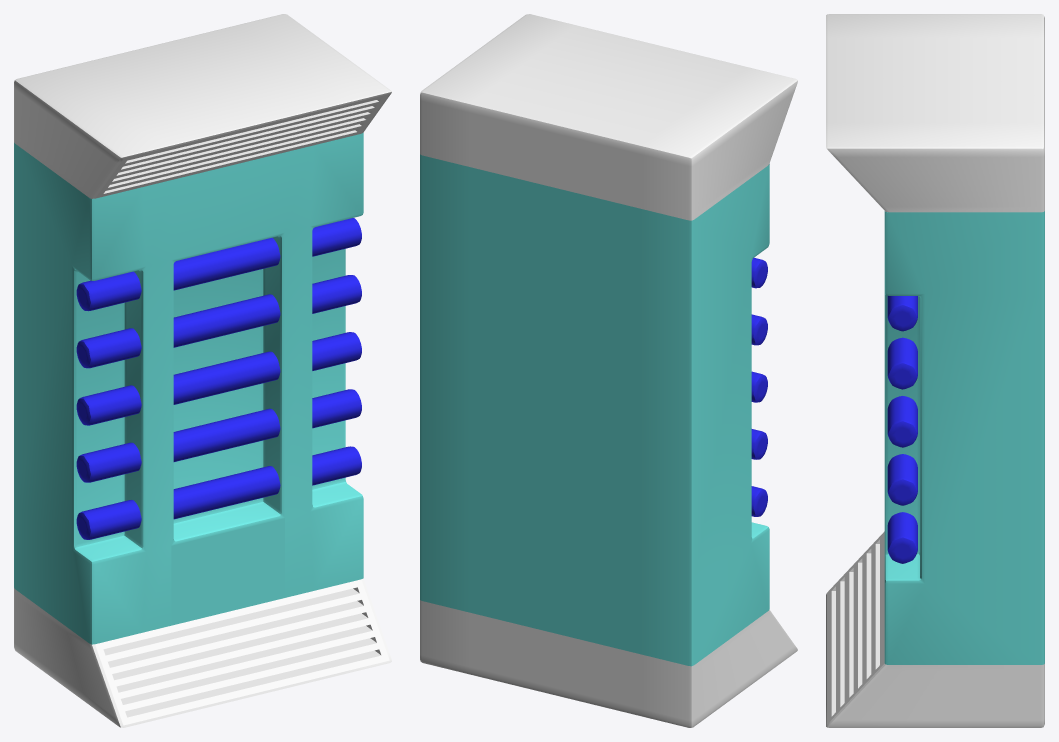
Rendered from WallBaseHI.fbx.
3 renders of one model, left to right at view 1: azimuth 30°, elevation 25°; view 2: azimuth 150°, elevation 25°; view 3: azimuth 270°, elevation 25°, orthographic.
Parts seen in each view (by area): view 1: Base; view 2: Base; view 3: Base.
Boxes of the visible parts, x1=… form: Base: x1=14, y1=14, x2=391, y2=727; Base: x1=420, y1=14, x2=797, y2=727; Base: x1=826, y1=14, x2=1044, y2=727.
Size of the model in its own units: 78.74 by 157 by 53.75.
